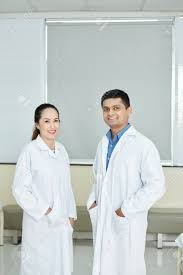Indian_Male: (92, 92, 132, 134)
